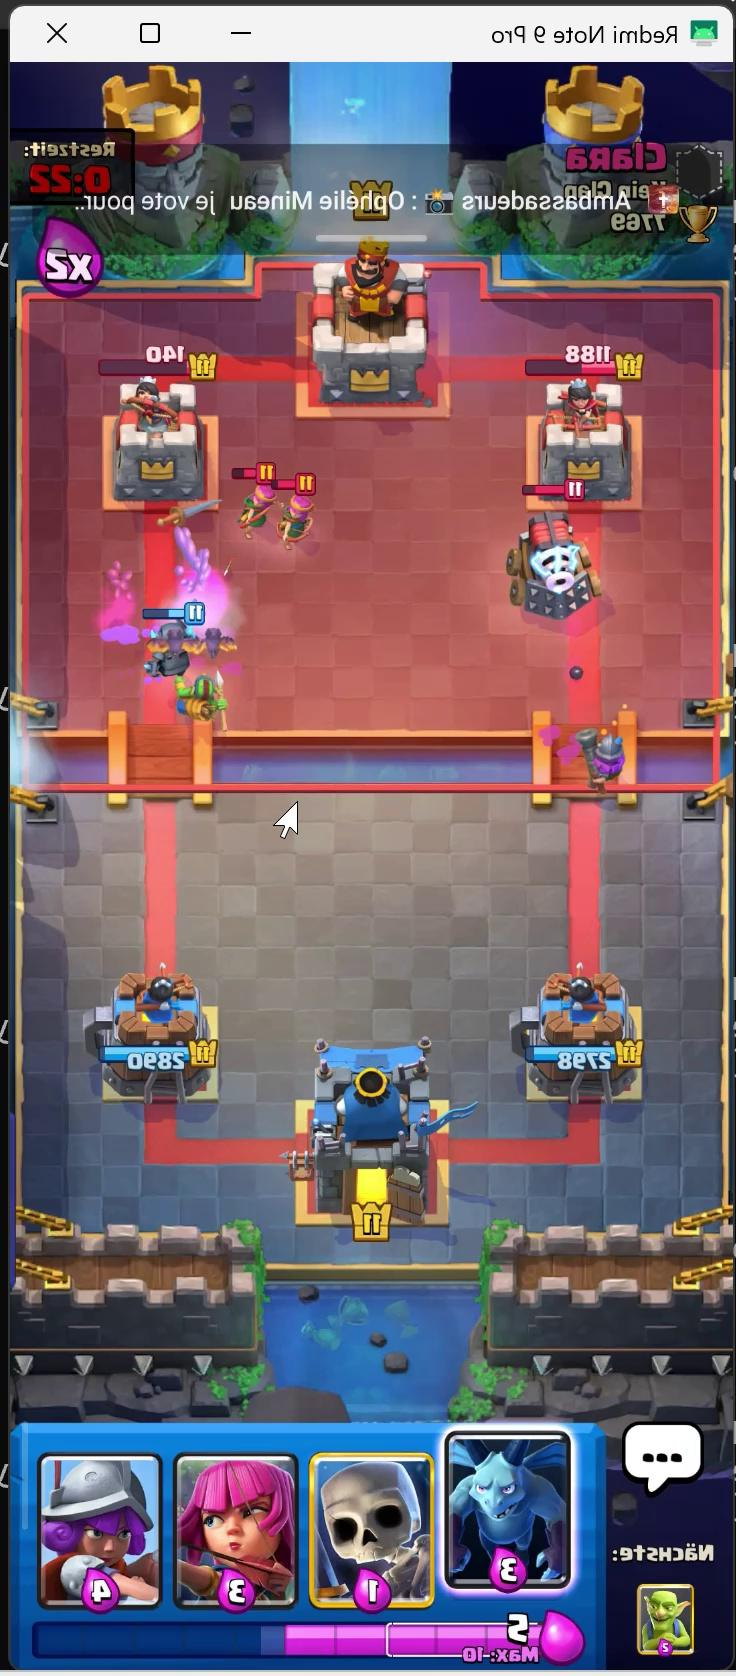archere: (279, 485, 317, 539), (240, 474, 273, 527)
bat: (194, 631, 231, 658), (161, 629, 190, 656)
gobelin_lances: (177, 669, 219, 712)
mini_PEKKA: (150, 610, 195, 681)
mousquetaire: (581, 734, 635, 793)
zappy: (511, 509, 592, 622)
